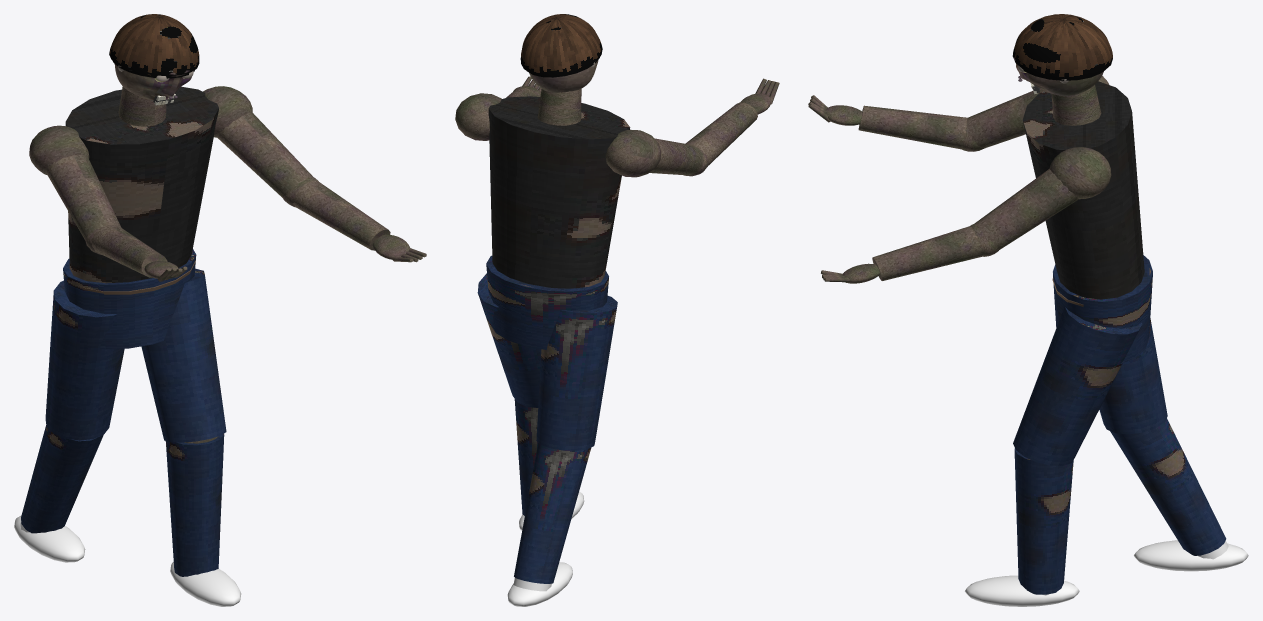
The model's file is Zombie_NPC.glb.
The picture shows the model from 3 angles, left to right: view 1: azimuth 30°, elevation 25°; view 2: azimuth 150°, elevation 25°; view 3: azimuth 270°, elevation 25°; orthographic projection. The views are drawn at different scales.
Parts seen in each view (by area): view 1: Zombie_135, object 42, object 10, object 3, object 16, object 11; view 2: Zombie_135, object 42, object 3, object 16; view 3: Zombie_135, object 42, object 10, object 3, object 16, object 4.
Part boxes in pixels (box(x1,y1,x2,y2)): Zombie_135: box(14, 86, 312, 606); object 42: box(109, 14, 199, 75); object 10: box(292, 180, 390, 250); object 3: box(91, 225, 167, 277); object 16: box(114, 64, 191, 100); object 11: box(372, 234, 409, 259); Zombie_135: box(455, 88, 704, 606); object 42: box(520, 14, 602, 75); object 3: box(685, 102, 757, 165); object 16: box(529, 60, 598, 92); Zombie_135: box(965, 75, 1248, 606); object 42: box(1012, 14, 1112, 79); object 10: box(872, 226, 983, 280); object 3: box(858, 105, 967, 149); object 16: box(1013, 57, 1103, 95); object 4: box(825, 105, 862, 125).
Bounding box in the file's own units: 0.8531 × 1.72 × 1.2.
16 materials, 6 textured.
